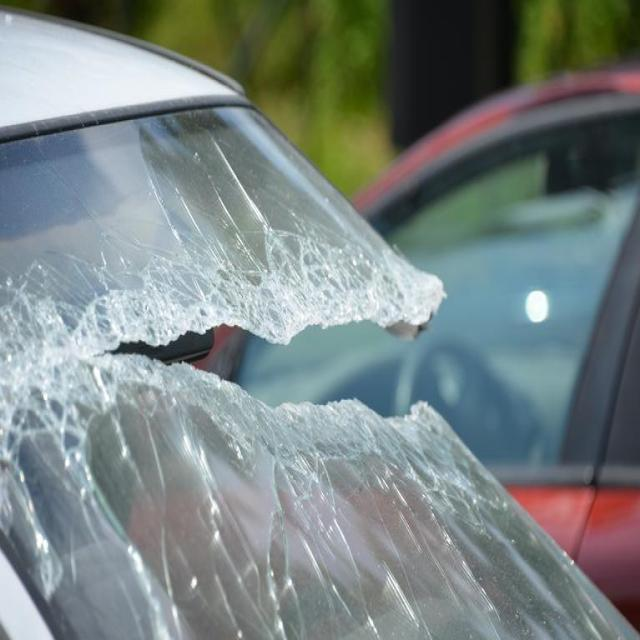shatter: (0, 132, 640, 640)
